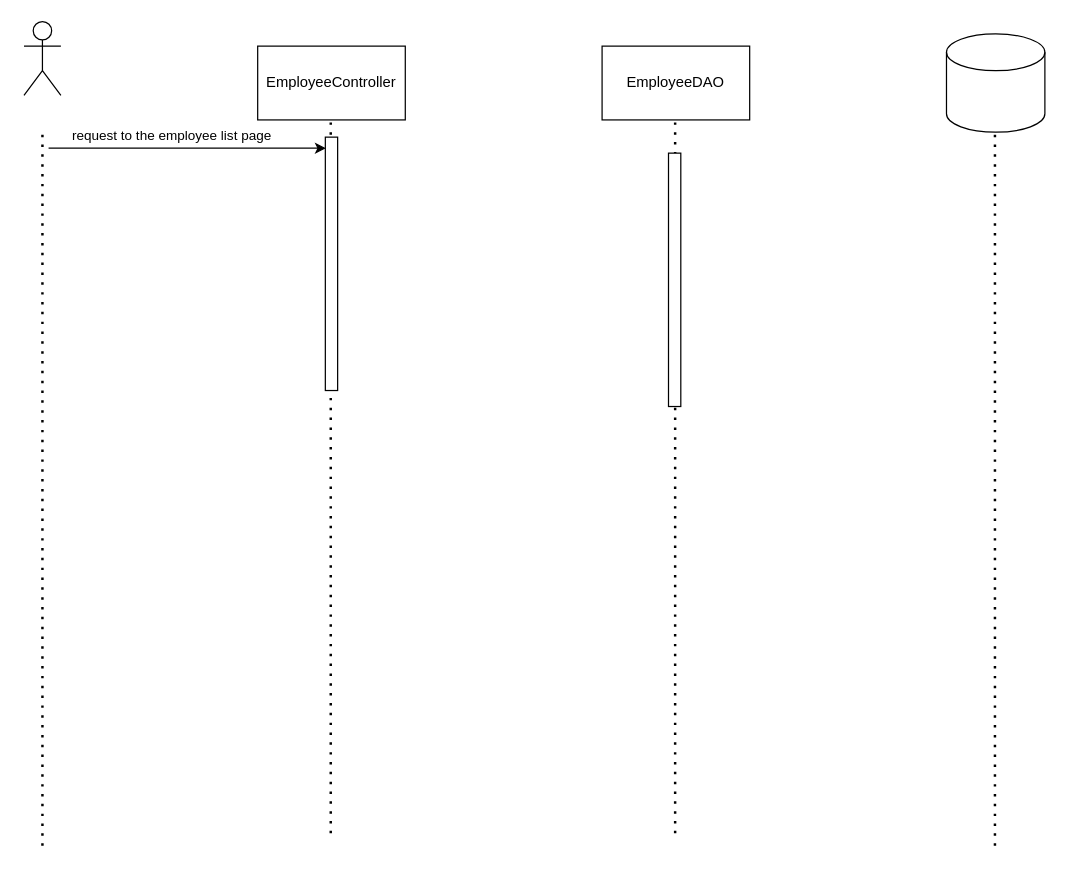
Image size: 1066x870. Some labels were removed from this diagram. The centre of each missing label's shape, as x and y in pixels:
"Admin" goes at [42,57].
"DB" goes at [995,82].
